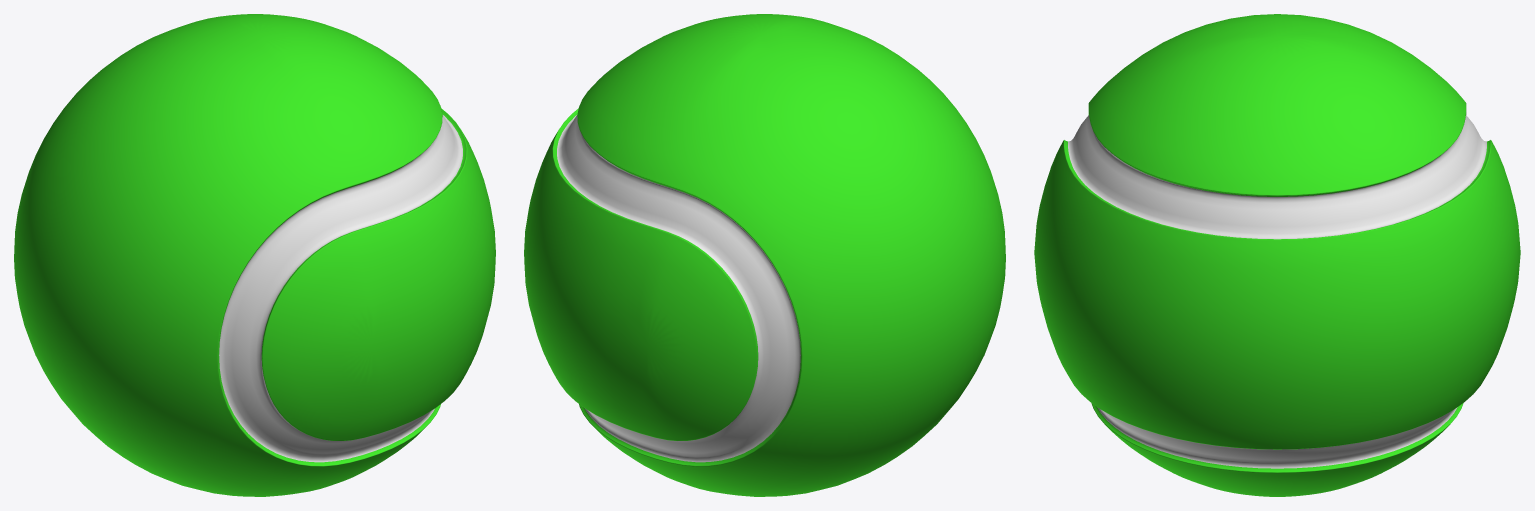
The model's file is Ball.fbx.
The picture shows the model from 3 angles, left to right: view 1: azimuth 30°, elevation 25°; view 2: azimuth 150°, elevation 25°; view 3: azimuth 270°, elevation 25°; orthographic projection.
Visible parts, largest first — view 1: Сфера; view 2: Сфера; view 3: Сфера.
Part boxes in pixels (x1=…): Сфера: x1=14, y1=14, x2=495, y2=496; Сфера: x1=524, y1=14, x2=1005, y2=496; Сфера: x1=1034, y1=14, x2=1520, y2=496.
Bounding box in the file's own units: 197 × 199 × 199.
